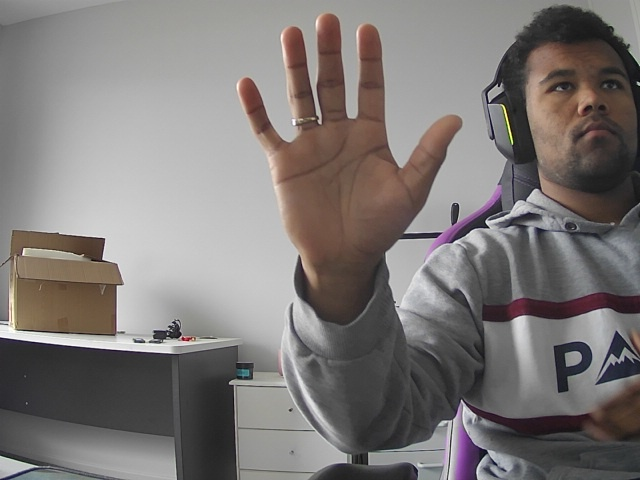Hello: (207, 2, 481, 279)
